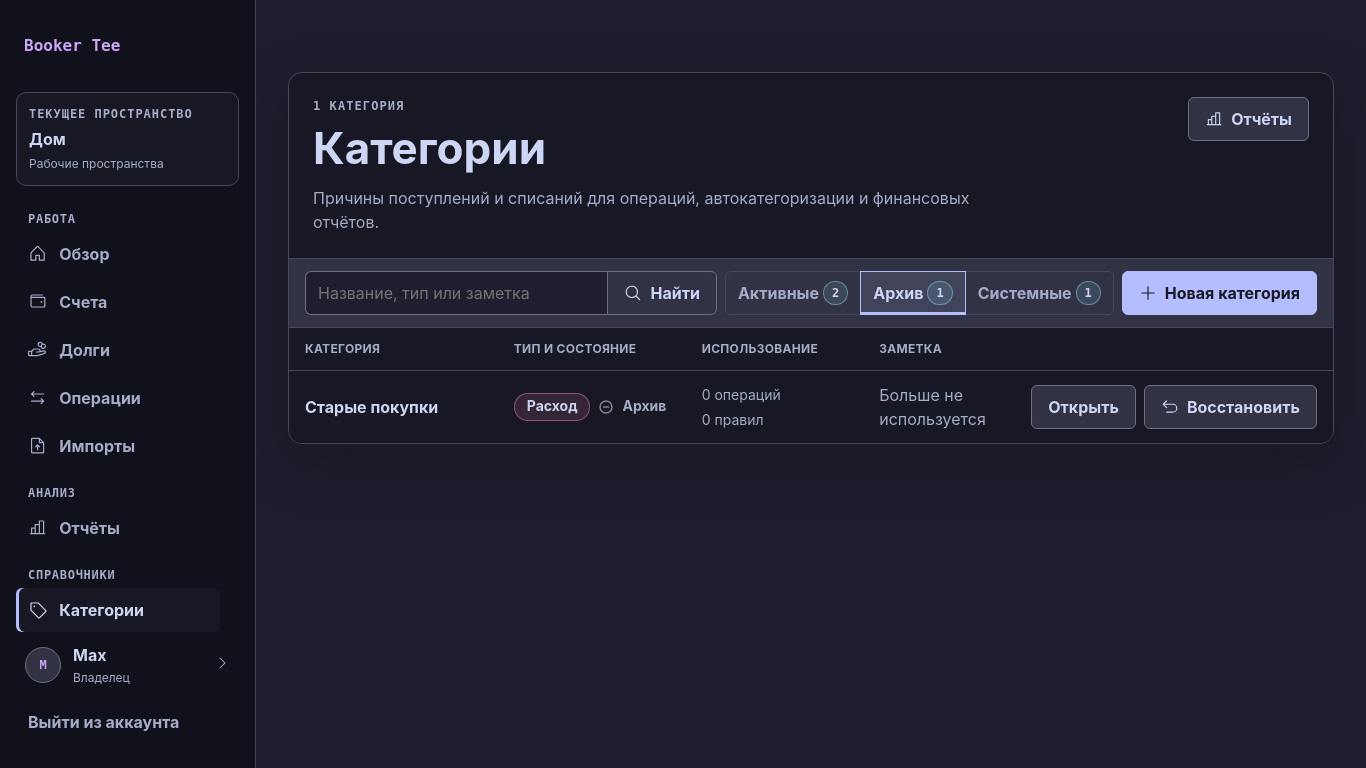
CategoriesPage › restores an archived category directly from the directory
Check: the text "Старые покупки" is shown, box left=305, top=385, right=438, bottom=429
Click the button "Восстановить" at (1230, 407), box left=1144, top=385, right=1317, bottom=429
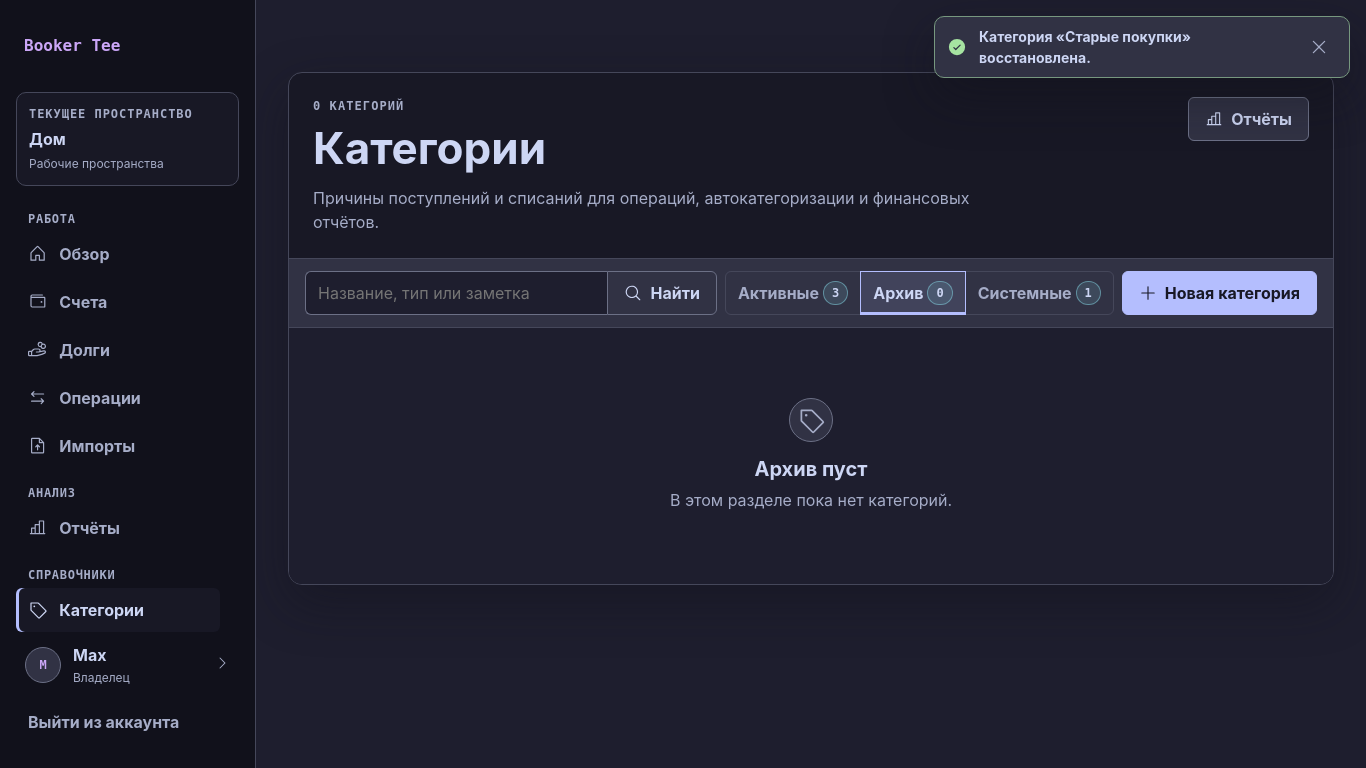
Check: the text "Категория «Старые покупки» восстановлена." is shown, box left=979, top=28, right=1191, bottom=66
Check: the link "Архив 0" is shown, box left=860, top=271, right=966, bottom=315
